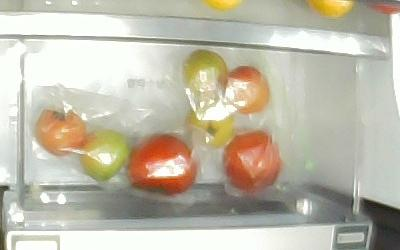tomato_vinyl: (128, 134, 197, 196), (223, 131, 282, 191), (80, 128, 129, 181), (35, 108, 86, 157), (224, 65, 269, 113), (184, 109, 236, 146), (184, 50, 226, 88)
